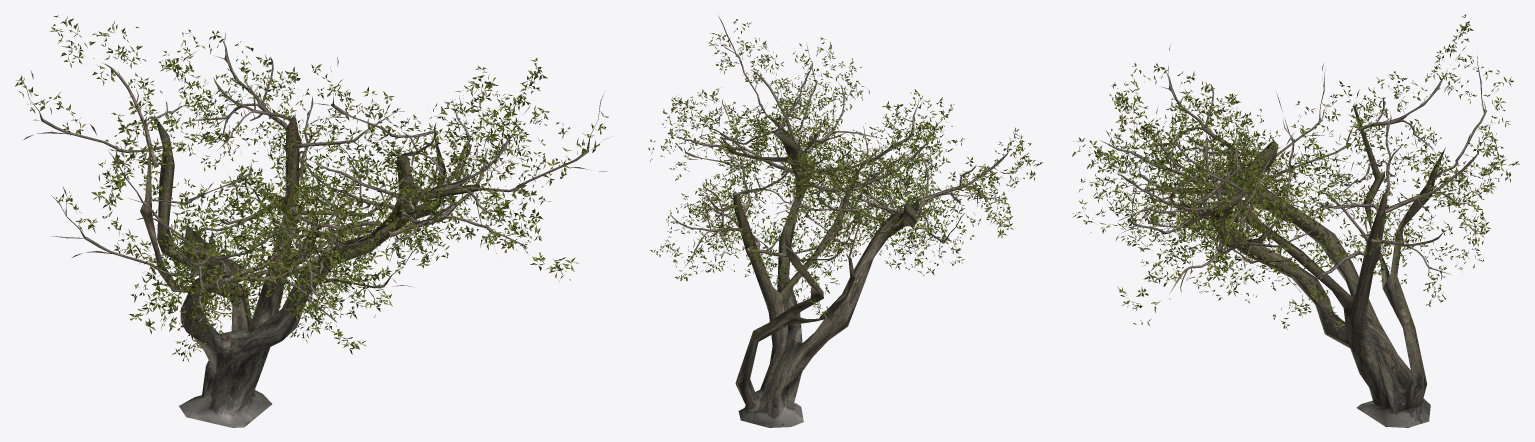
File: tree.glb
The picture shows the model from 3 angles, left to right: view 1: azimuth 30°, elevation 25°; view 2: azimuth 150°, elevation 25°; view 3: azimuth 270°, elevation 25°; orthographic projection. The views are drawn at different scales.
Visible parts, largest first — view 1: island_tree_02_LOD0; view 2: island_tree_02_LOD0; view 3: island_tree_02_LOD0.
Boxes of the visible parts, box(x1,y1,x2,y2) form: island_tree_02_LOD0: box(15, 15, 612, 427); island_tree_02_LOD0: box(648, 16, 1042, 427); island_tree_02_LOD0: box(1072, 14, 1519, 427).
Bounding box in the file's own units: 4.05 × 3.4 × 4.04.
3 materials, 3 textured.
